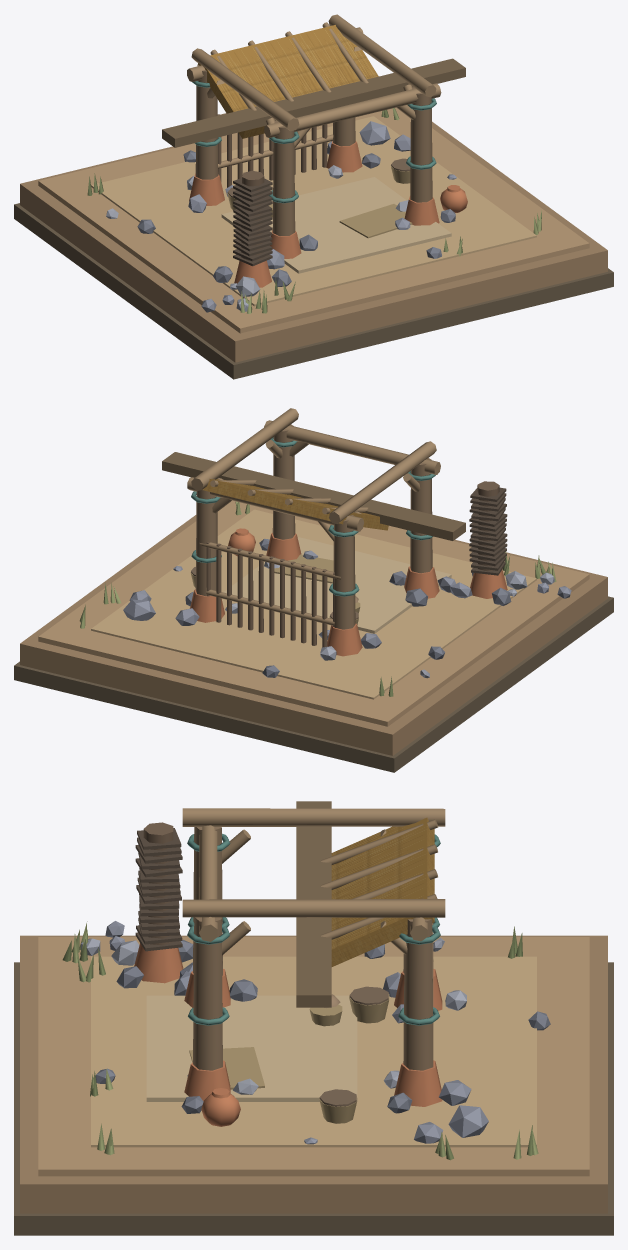
Rendered from num-3-built.glb.
3 views of the same model, one above another, from view 1: azimuth 30°, elevation 25°; view 2: azimuth 150°, elevation 25°; view 3: azimuth 270°, elevation 25° (orthographic). The views are drawn at different scales.
Visible parts, largest first — view 1: era1, Era1DepthKit; view 2: era1, Era1DepthKit; view 3: era1, Era1DepthKit.
Part boxes in pixels (box(x1,y1,x2,y2)): era1: box(20, 14, 607, 362); Era1DepthKit: box(14, 58, 613, 379); era1: box(20, 408, 607, 755); Era1DepthKit: box(14, 452, 613, 772); era1: box(20, 808, 607, 1213); Era1DepthKit: box(14, 801, 613, 1235).
Size of the model in its own units: 9.69 by 4.57 by 9.69.
Materials: 22 (1 with a texture image).
